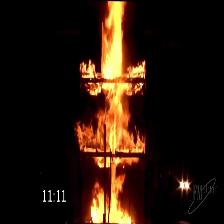fire: (74, 0, 147, 177), (81, 1, 146, 89)
